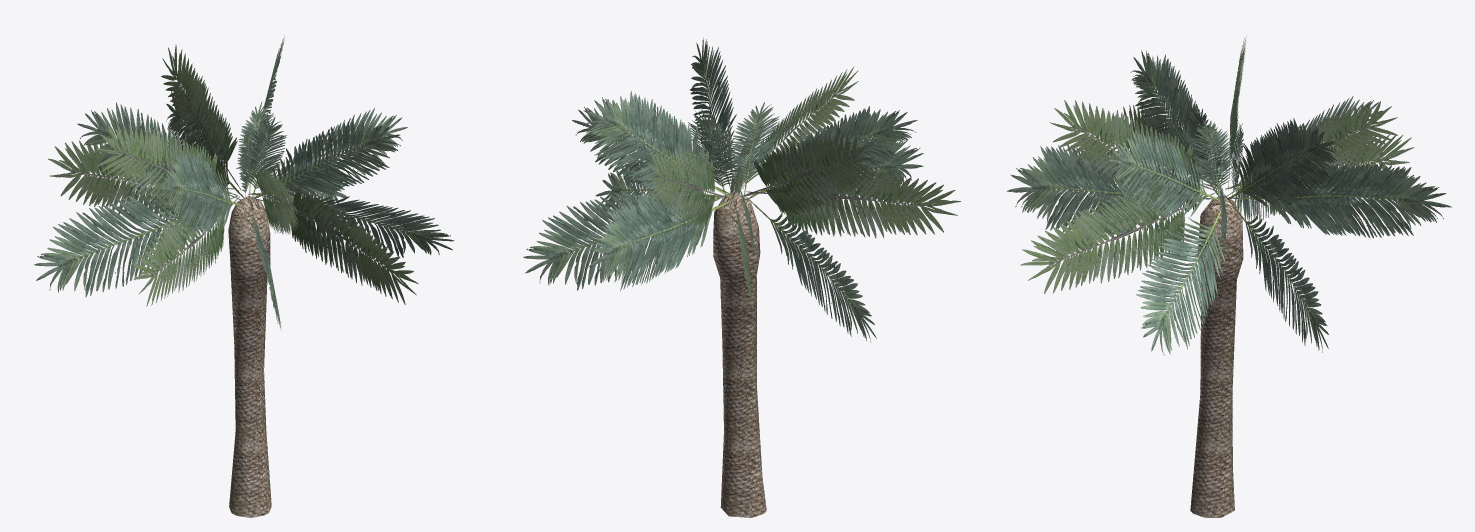
The model's file is palm_tree_7_LOD1.FBX.
The picture shows the model from 3 angles, left to right: view 1: azimuth 30°, elevation 25°; view 2: azimuth 150°, elevation 25°; view 3: azimuth 270°, elevation 25°; orthographic projection. The views are drawn at different scales.
Visible parts, largest first — view 1: leaves005, bark006; view 2: leaves005, bark006; view 3: leaves005, bark006.
Part boxes in pixels (bbox=[...]): leaves005: bbox=[34, 37, 454, 329]; bark006: bbox=[228, 195, 271, 517]; leaves005: bbox=[523, 38, 960, 342]; bark006: bbox=[713, 192, 766, 517]; leaves005: bbox=[1007, 37, 1451, 355]; bark006: bbox=[1190, 196, 1243, 517].
Size of the model in its own units: 7.54 by 8.14 by 8.8.
